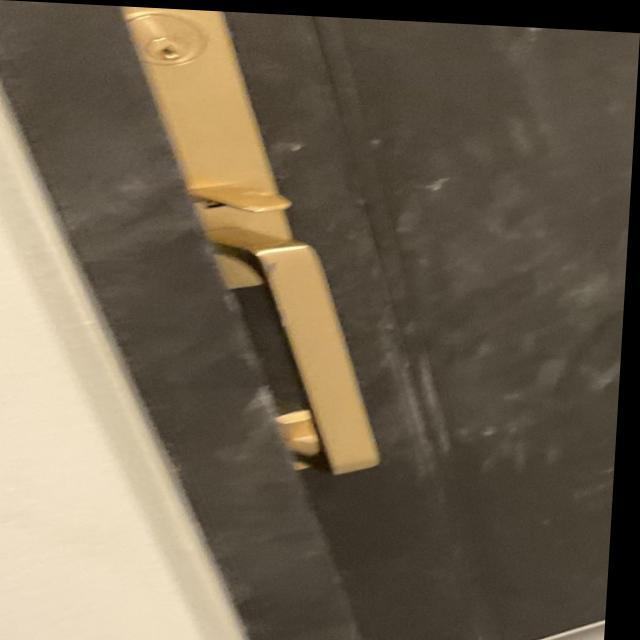door_handle: (180, 222, 423, 482)
